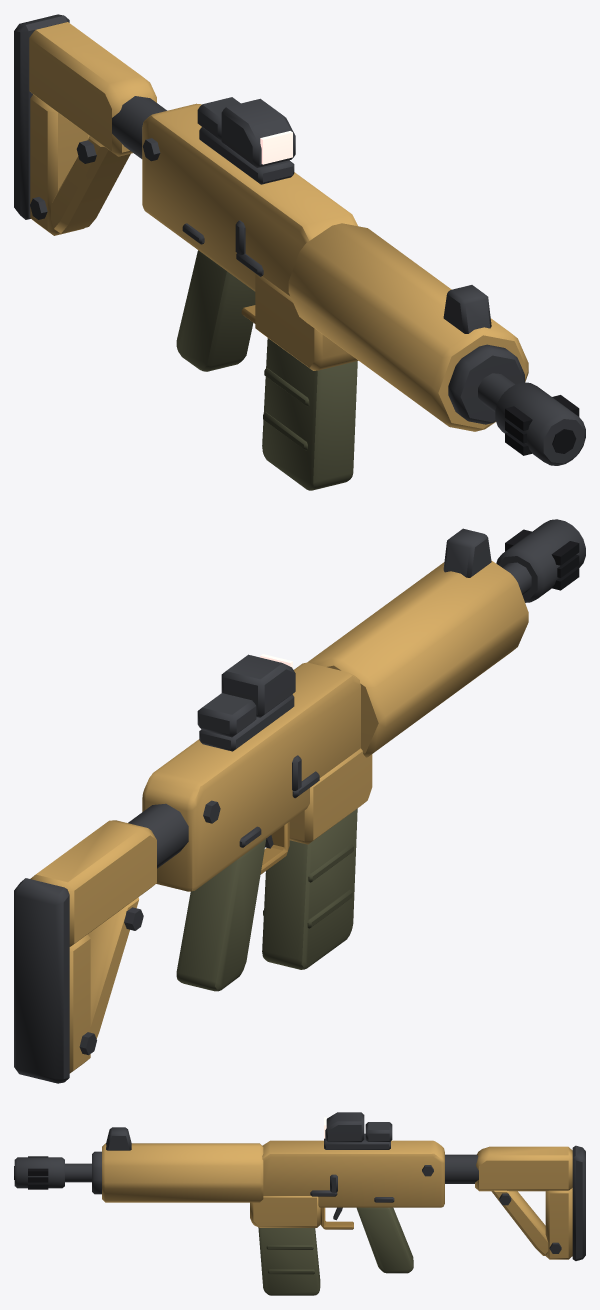
File: assault_rifle.glb
3 views of the same model, one above another, from view 1: azimuth 30°, elevation 25°; view 2: azimuth 150°, elevation 25°; view 3: azimuth 270°, elevation 25° (orthographic). The views are drawn at different scales.
Parts seen in each view (by area): view 1: rifle_body, rifle_metal, rifle_magazine, rifle_lens; view 2: rifle_body, rifle_metal, rifle_magazine; view 3: rifle_body, rifle_metal, rifle_magazine.
Part boxes in pixels (<box>): rifle_body: <box>29,22,528,431</box>; rifle_metal: <box>14,14,585,465</box>; rifle_magazine: <box>262,338,357,490</box>; rifle_lens: <box>260,131,292,164</box>; rifle_body: <box>30,560,528,1073</box>; rifle_metal: <box>14,519,585,1083</box>; rifle_magazine: <box>262,808,357,969</box>; rifle_body: <box>102,1140,572,1273</box>; rifle_metal: <box>14,1112,585,1260</box>; rifle_magazine: <box>258,1227,320,1295</box>.
Size of the model in its own units: 0.0902 by 0.286 by 0.851.
